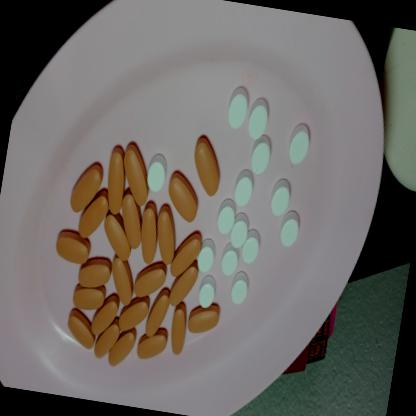Paracetamol: (221, 80, 252, 133), (243, 90, 273, 142), (284, 120, 314, 167), (245, 134, 275, 178), (144, 150, 170, 198), (230, 166, 258, 209), (266, 174, 292, 218), (277, 208, 303, 250), (226, 210, 252, 252), (212, 195, 238, 236), (238, 225, 263, 267), (194, 274, 218, 310), (195, 236, 219, 272), (228, 270, 250, 308), (218, 242, 241, 277)
VitaminB: (188, 128, 228, 198), (117, 139, 156, 205), (66, 156, 108, 216), (162, 169, 204, 226), (113, 189, 148, 253), (166, 224, 204, 282), (102, 143, 130, 216), (75, 186, 112, 241), (104, 254, 139, 312), (133, 202, 163, 269), (98, 211, 136, 263), (151, 204, 181, 268), (166, 258, 200, 312), (88, 289, 122, 342), (50, 228, 93, 268), (132, 324, 170, 369), (132, 258, 168, 304), (116, 292, 152, 337), (91, 316, 123, 366), (144, 287, 172, 342), (106, 324, 138, 372), (164, 302, 190, 359), (76, 252, 113, 292), (63, 309, 98, 351), (68, 280, 106, 316), (186, 302, 221, 340)
